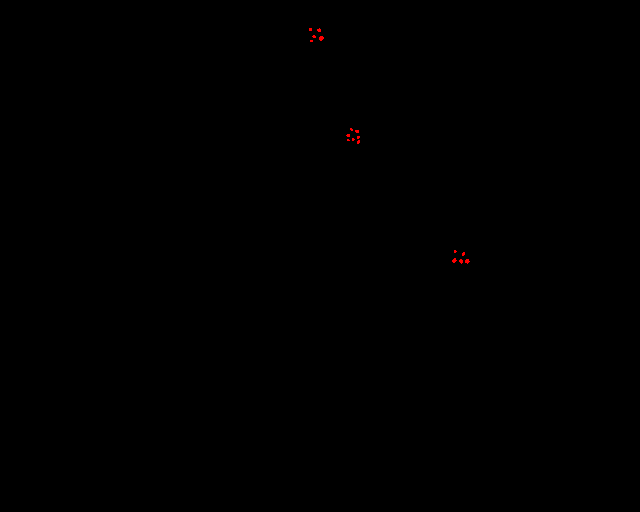Target: (319, 36, 324, 41), (452, 258, 457, 263), (465, 259, 470, 264), (459, 259, 463, 264), (317, 28, 321, 32), (312, 35, 316, 38), (355, 130, 359, 133), (346, 134, 350, 137), (357, 140, 360, 144), (462, 252, 465, 256), (309, 28, 312, 31), (350, 128, 353, 131), (357, 136, 360, 139), (352, 138, 355, 141), (454, 250, 457, 253), (310, 40, 313, 42), (347, 139, 350, 141)
